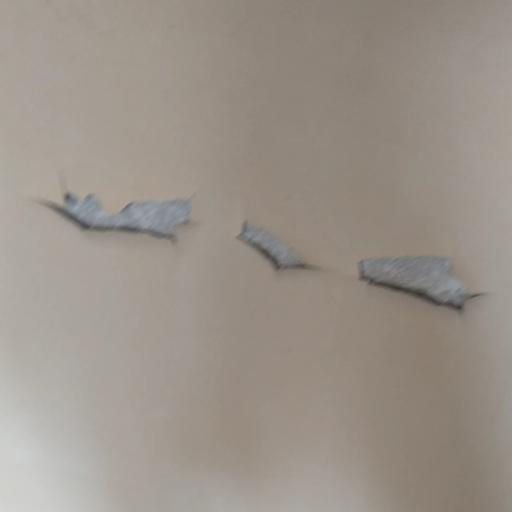peeling: (28, 176, 203, 252), (356, 241, 490, 322), (227, 210, 326, 293)
